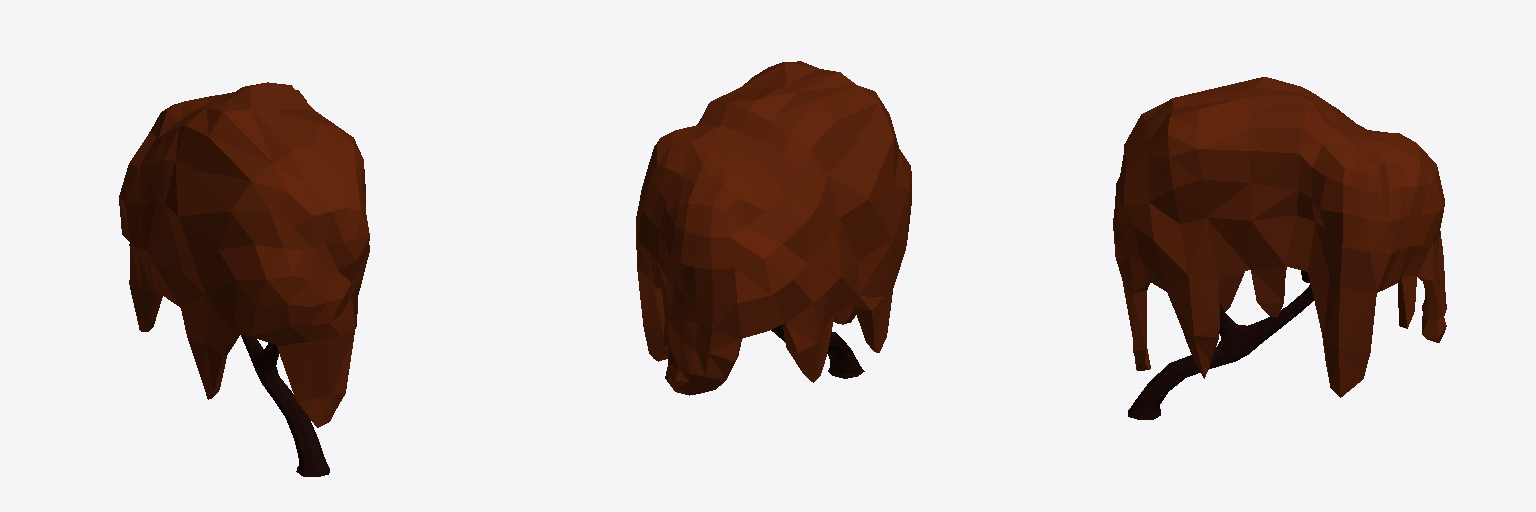
The model's file is Willow_Autumn_2_Cube.obj.
3 renders of one model, left to right at view 1: azimuth 30°, elevation 25°; view 2: azimuth 150°, elevation 25°; view 3: azimuth 270°, elevation 25°, orthographic.
Visible parts, largest first — view 1: Willow_Autumn_2_Cube.087; view 2: Willow_Autumn_2_Cube.087; view 3: Willow_Autumn_2_Cube.087.
Part boxes in pixels (left/top/right/bottom): Willow_Autumn_2_Cube.087: left=119, top=82, right=369, bottom=476; Willow_Autumn_2_Cube.087: left=636, top=61, right=911, bottom=395; Willow_Autumn_2_Cube.087: left=1113, top=77, right=1446, bottom=419.
Bounding box in the file's own units: 1.96 × 3.32 × 3.11.